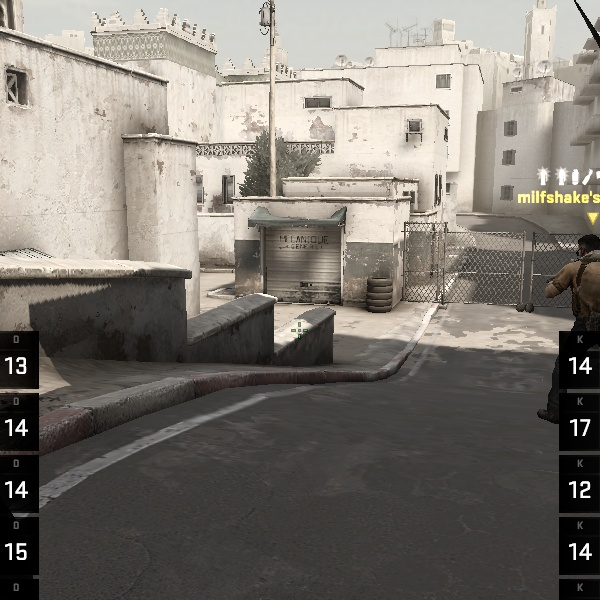t_head: (571, 227, 600, 272)
